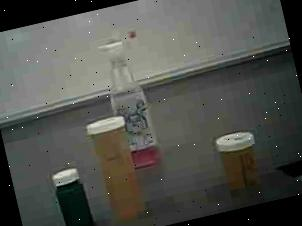Bottle A: (80, 113, 148, 224)
Bottle B: (212, 126, 272, 198)
Bottle C: (49, 164, 99, 226)
hazard: (93, 28, 172, 172)
